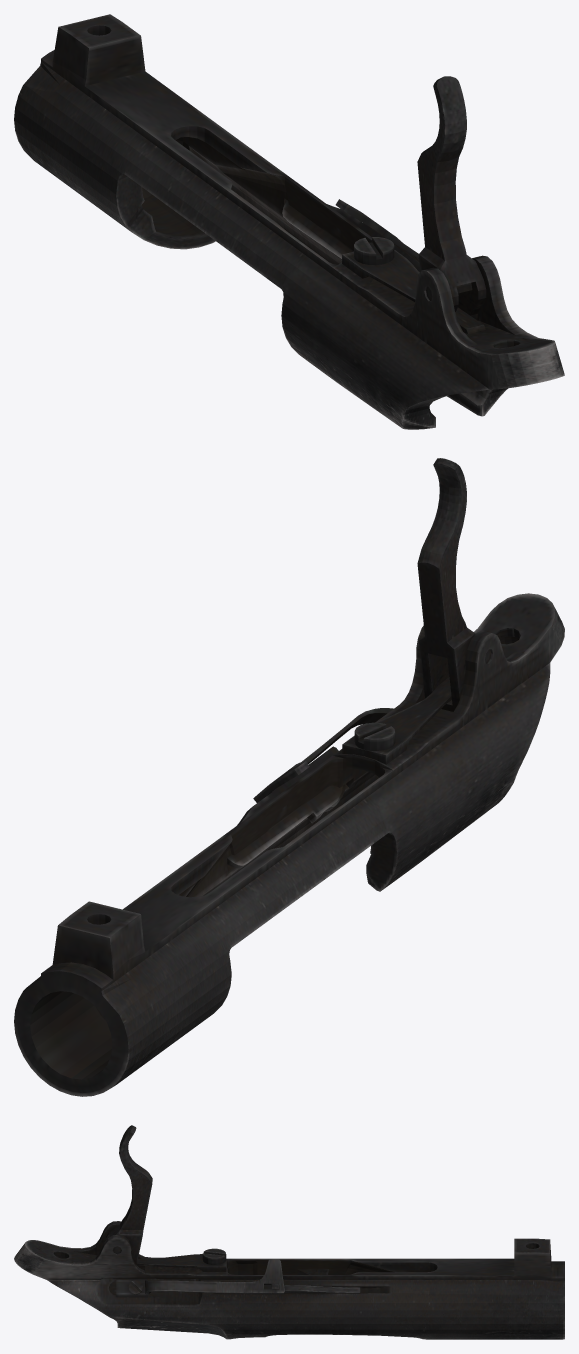
3 renders of one model, top to bottom at view 1: azimuth 30°, elevation 25°; view 2: azimuth 150°, elevation 25°; view 3: azimuth 270°, elevation 25°, orthographic. The views are drawn at different scales.
Parts seen in each view (by area): view 1: TW_5bfd297f0db834001a669119_PZ_Import; view 2: TW_5bfd297f0db834001a669119_PZ_Import; view 3: TW_5bfd297f0db834001a669119_PZ_Import.
Boxes of the visible parts, x1,y1,x2,y2 form: TW_5bfd297f0db834001a669119_PZ_Import: (14,14,564,429); TW_5bfd297f0db834001a669119_PZ_Import: (14,458,564,1096); TW_5bfd297f0db834001a669119_PZ_Import: (14,1125,564,1339).
Bounding box in the file's own units: 0.0189 × 0.1308 × 0.055.
Materials: 1 (1 with a texture image).
